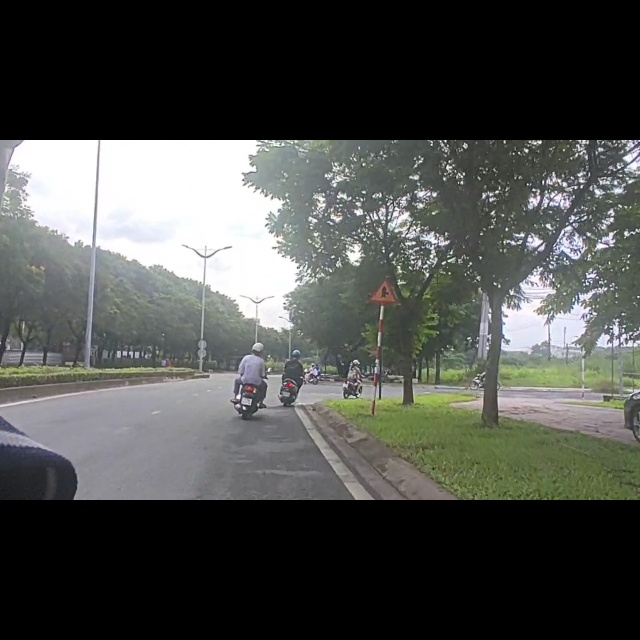Giao nhau với đường không ưu tiên: (369, 279, 397, 305)
